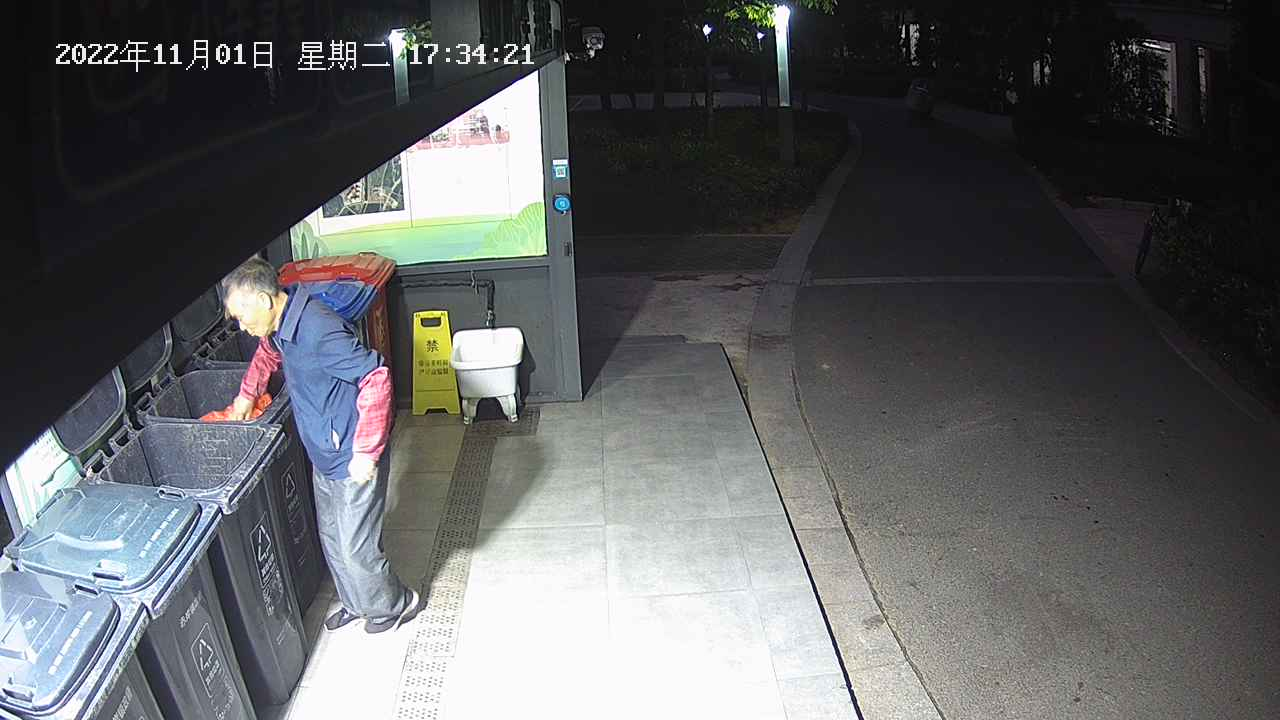person: (217, 256, 420, 636)
